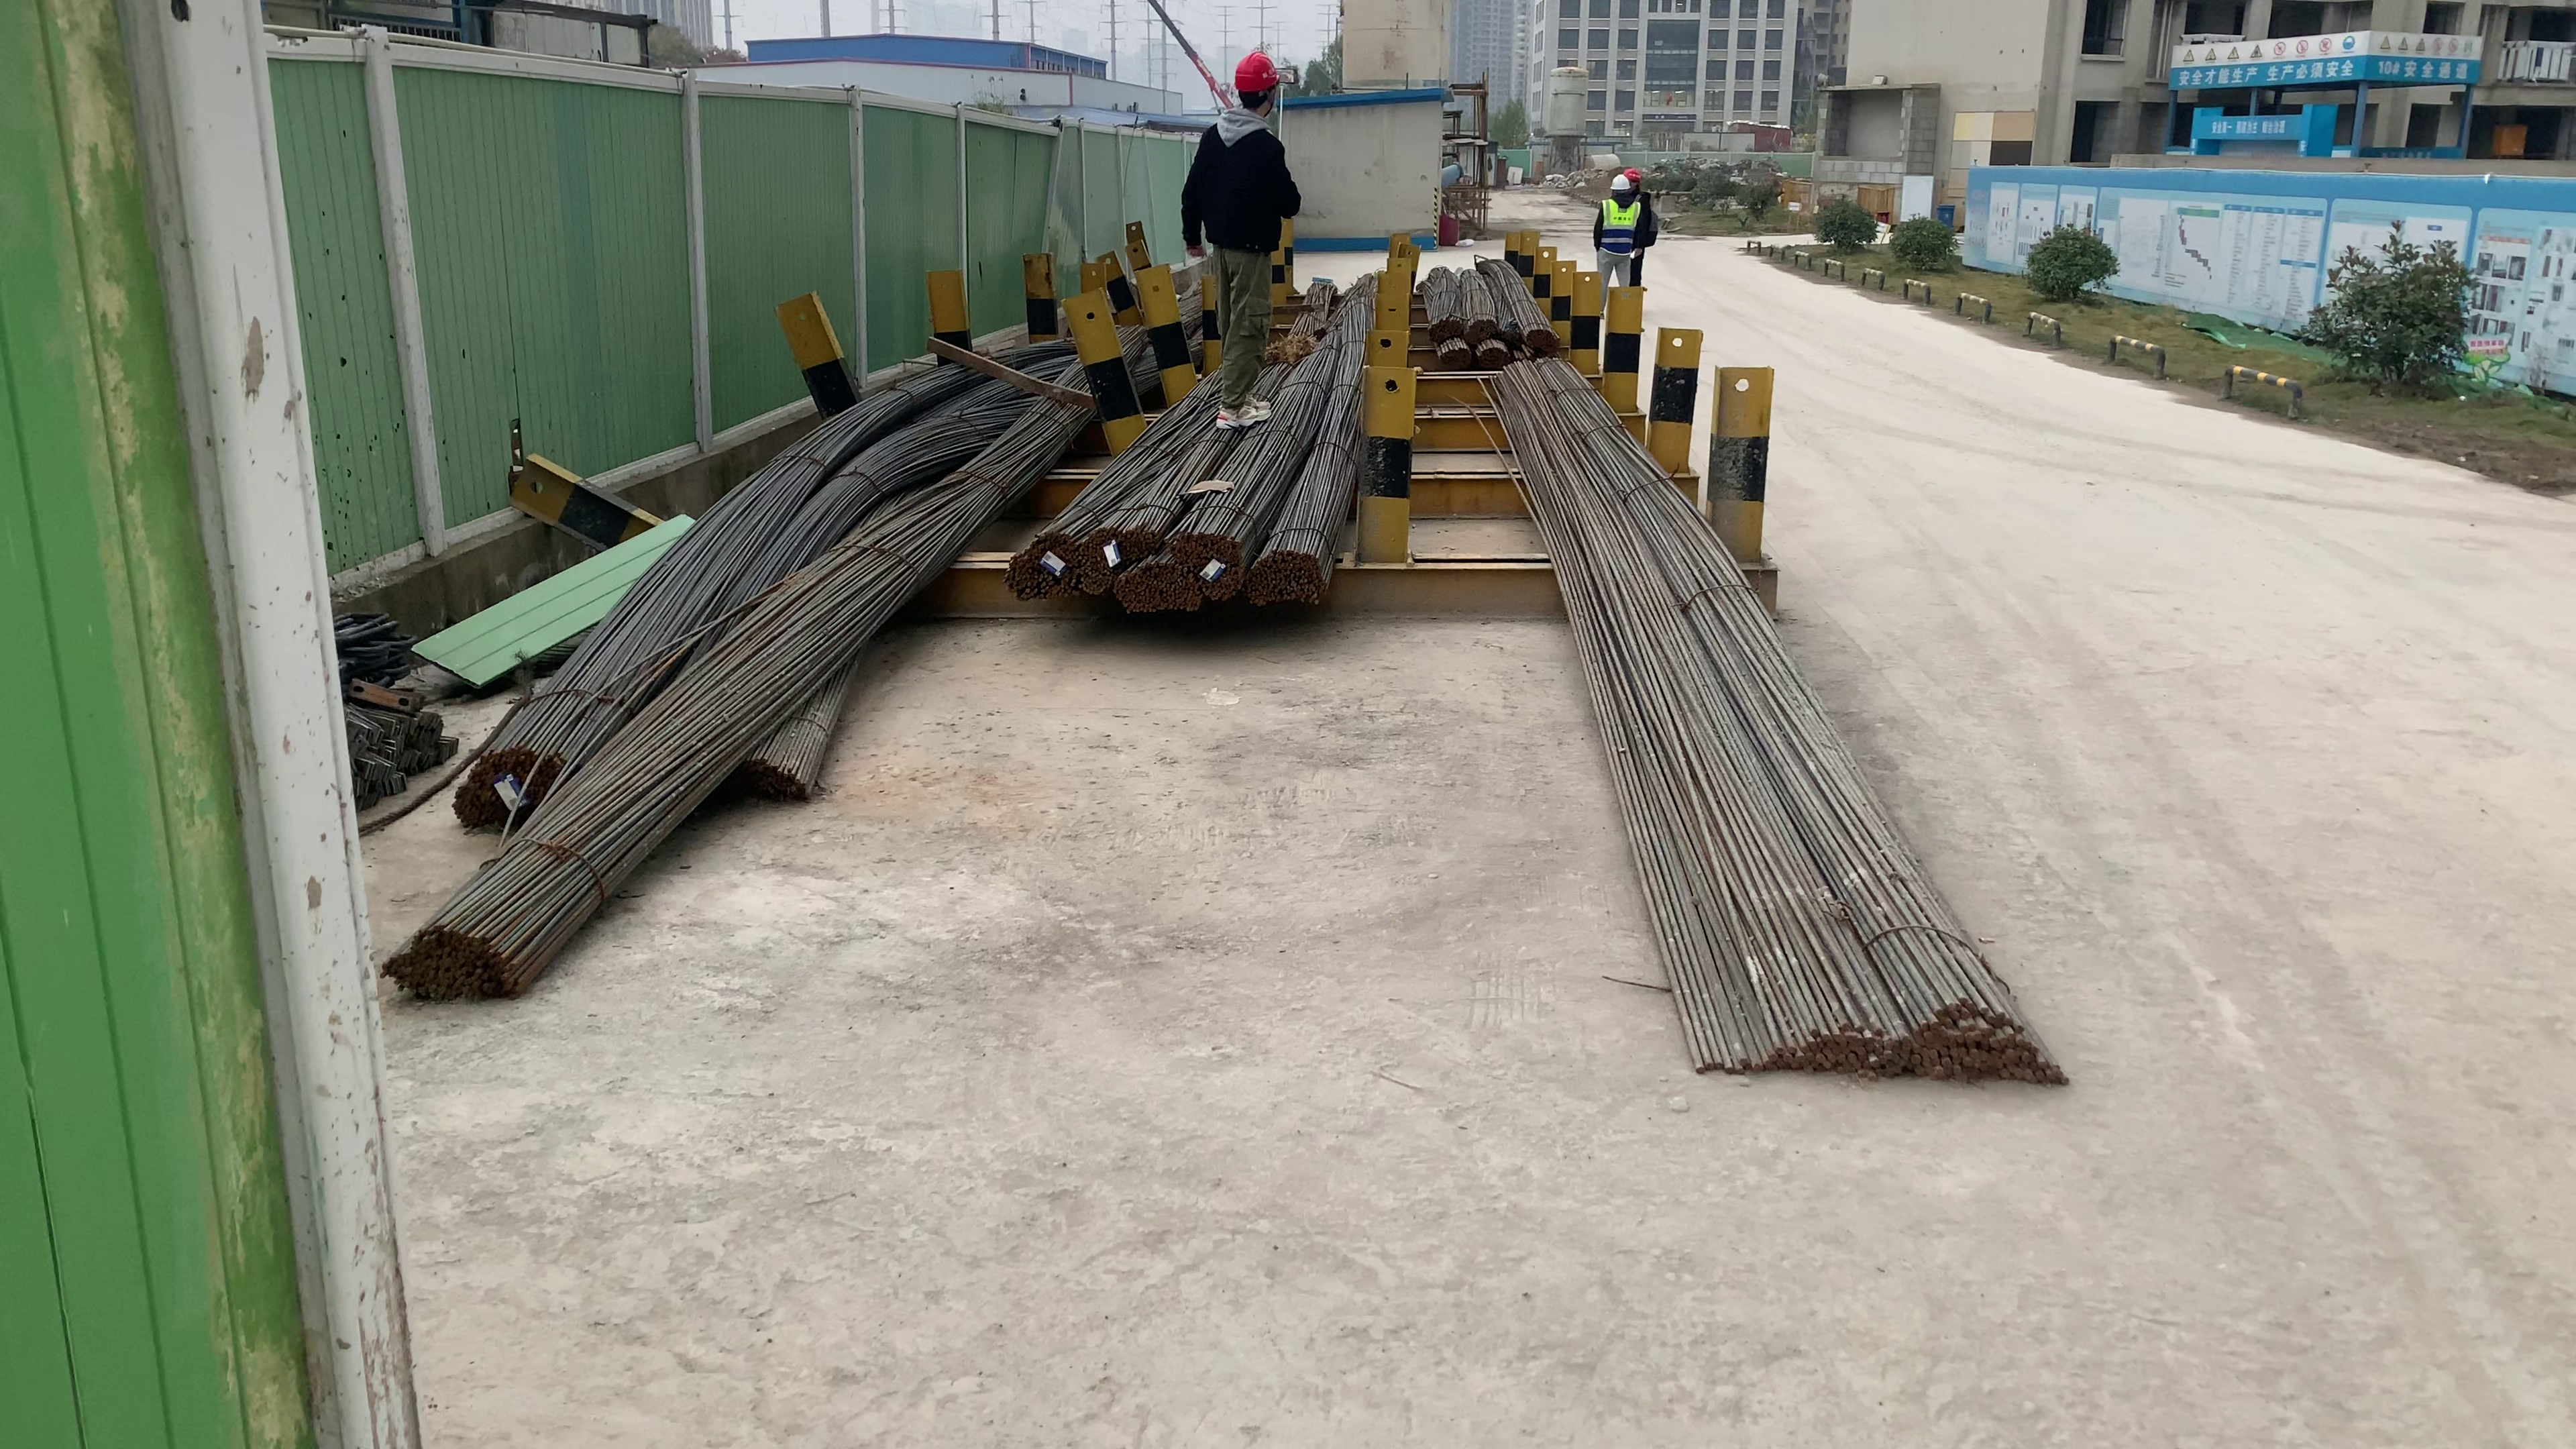rebar: (1700, 994, 2058, 1097), (375, 922, 518, 1007), (449, 754, 563, 816), (1076, 525, 1157, 589), (720, 757, 817, 810), (1007, 536, 1081, 605), (1175, 524, 1242, 594), (1244, 552, 1322, 609), (1122, 571, 1194, 610), (1426, 317, 1465, 340), (1435, 341, 1468, 366), (1527, 327, 1560, 350), (1476, 343, 1509, 366), (1467, 313, 1499, 333)
